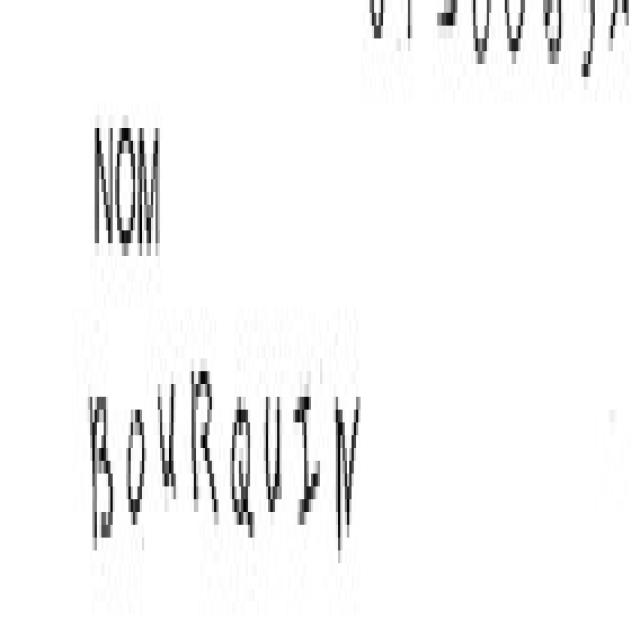B: (82, 348, 117, 578)
I: (291, 359, 326, 589)
N: (329, 381, 366, 601)
O: (122, 344, 149, 592)
Q: (231, 355, 259, 622)
R: (185, 345, 227, 595)
U: (153, 345, 179, 601), (262, 388, 288, 581)
